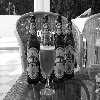beer: (27, 15, 42, 86)
